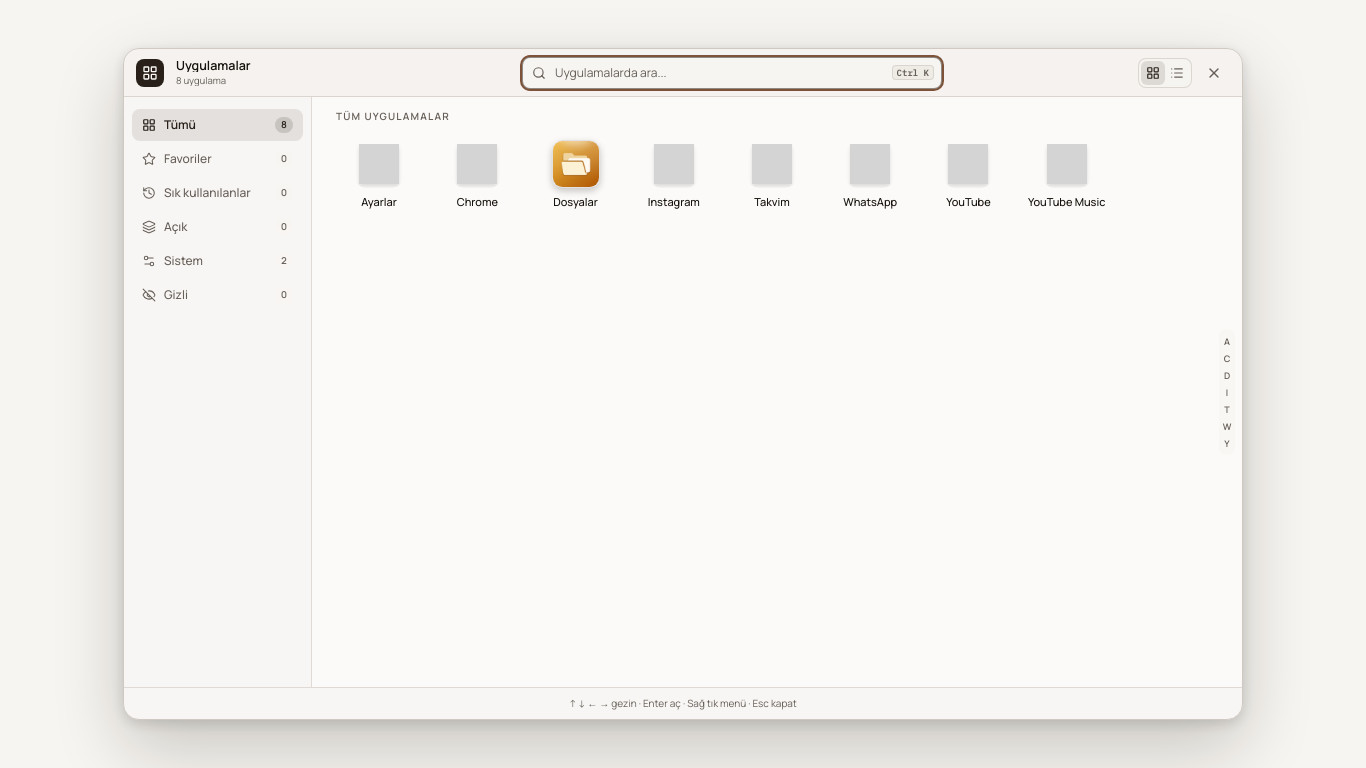
görünümler ve durum › Favoriler ve Sık kullanılanlar boş durumları yol gösterir
Click the button "Favoriler 0" at (218, 159), box x1=132 y1=143 x2=303 y2=175
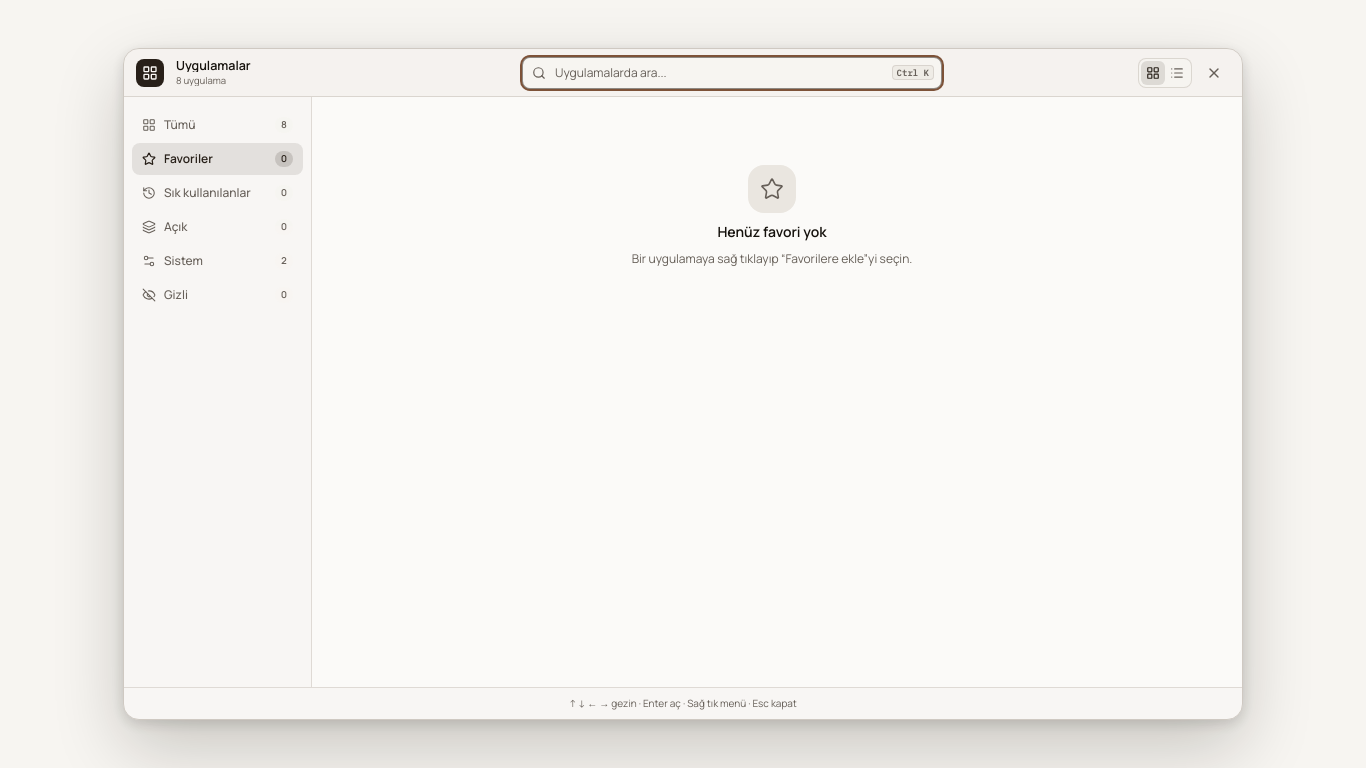
Check: the text "Henüz favori yok" is shown, box x1=717 y1=221 x2=827 y2=242
Click the button "Sık kullanılanlar 0" at (218, 193), box x1=132 y1=177 x2=303 y2=209
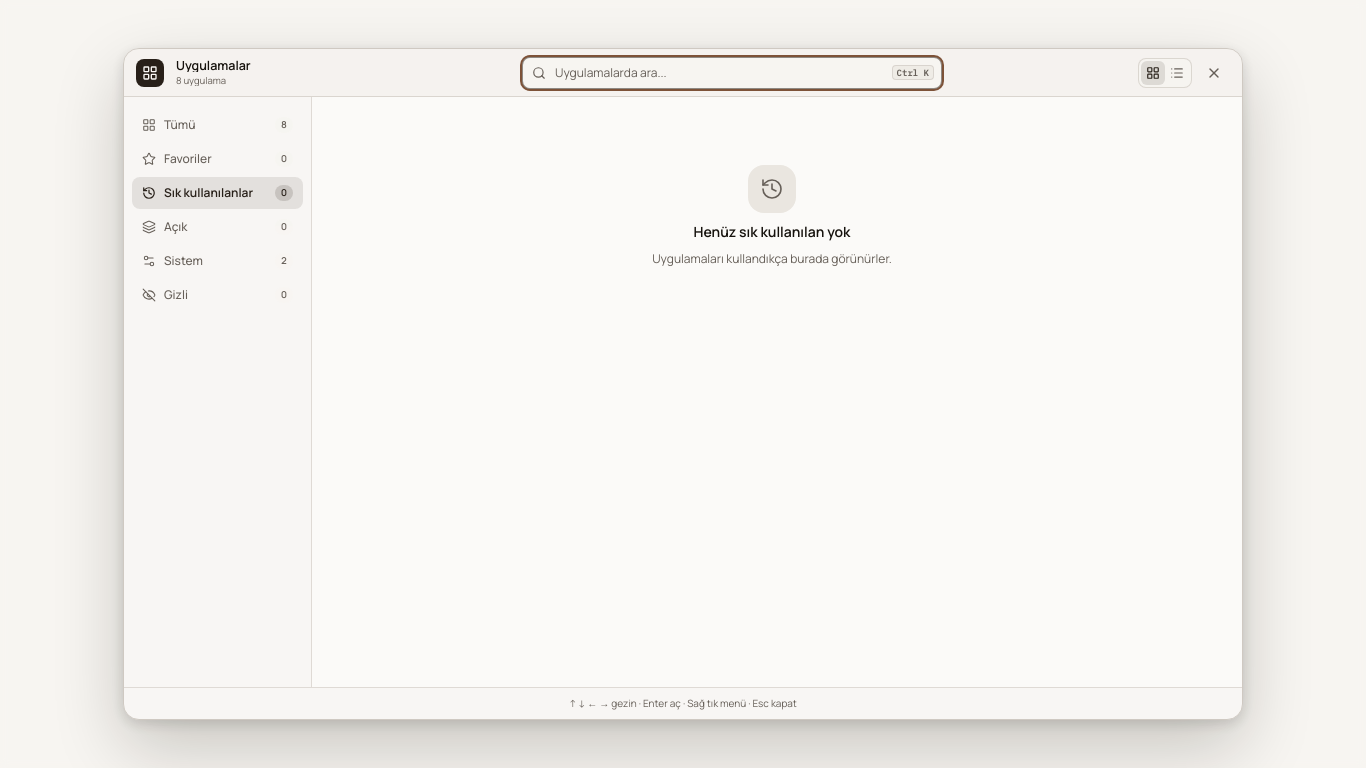
Check: the text "Henüz sık kullanılan yok" is shown, box x1=694 y1=221 x2=850 y2=242
